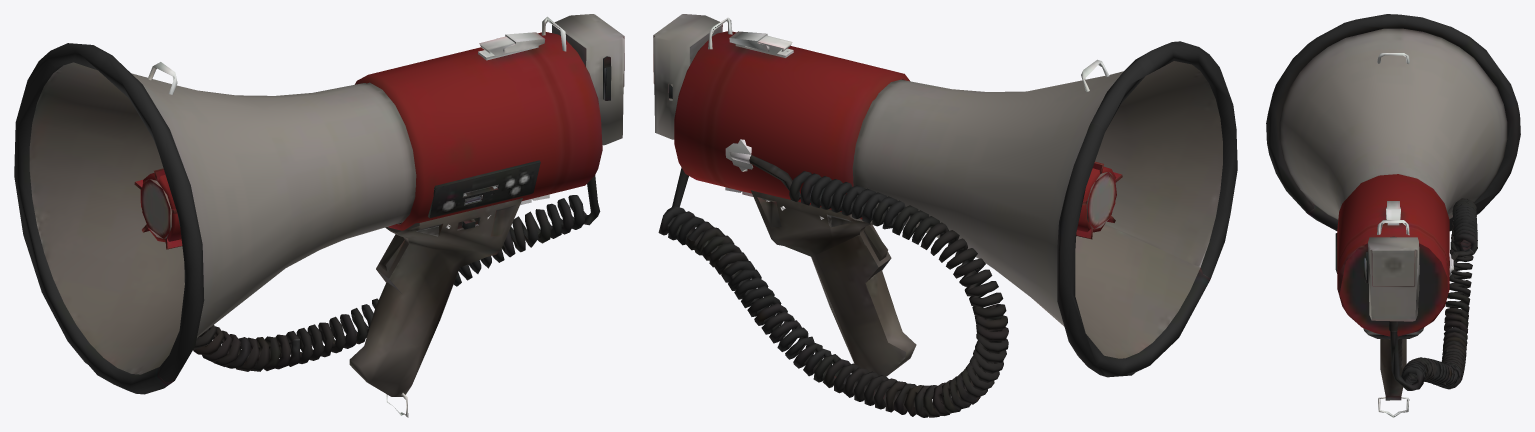
Rendered from Megaphone_01_lod1.glb.
3 views of the same model, side by side, from view 1: azimuth 30°, elevation 25°; view 2: azimuth 150°, elevation 25°; view 3: azimuth 270°, elevation 25° (orthographic). The views are drawn at different scales.
Visible parts, largest first — view 1: Megaphone_01; view 2: Megaphone_01; view 3: Megaphone_01.
Boxes of the visible parts, bbox=[...] form: Megaphone_01: bbox=[14, 14, 624, 417]; Megaphone_01: bbox=[653, 14, 1237, 417]; Megaphone_01: bbox=[1266, 14, 1520, 417].
Bounding box in the file's own units: 0.3707 × 0.3001 × 0.2284.
Materials: 1 (1 with a texture image).
